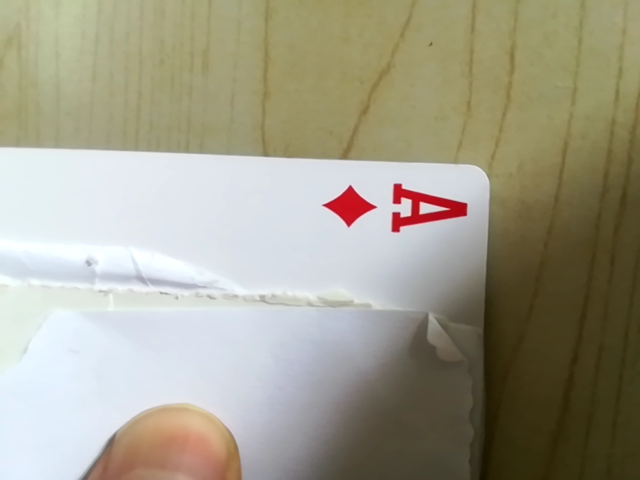fk a: (312, 171, 490, 245)
